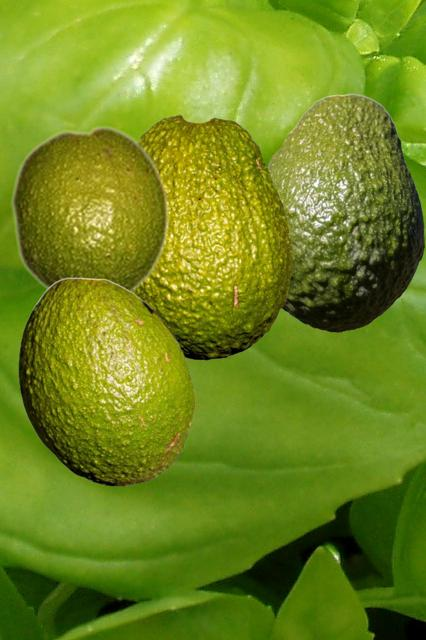avocado: (134, 114, 291, 359), (267, 93, 423, 331), (18, 277, 194, 485), (10, 124, 169, 291)
